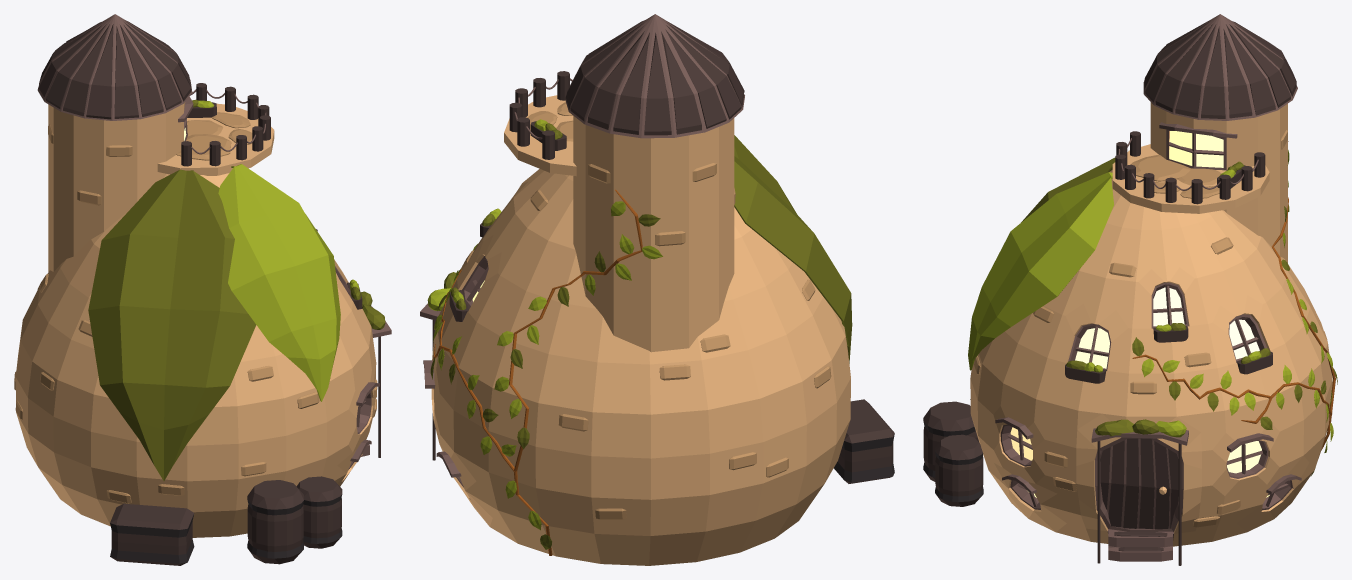
File: HouseBig.glb
3 views of the same model, side by side, from view 1: azimuth 30°, elevation 25°; view 2: azimuth 150°, elevation 25°; view 3: azimuth 270°, elevation 25° (orthographic). The views are drawn at different scales.
Parts seen in each view (by area): view 1: house.001, leaf.044, leaf.043, Cylinder.020, Cone.001, Cube, Cylinder.025, Cylinder.005, Cylinder.008, Cylinder.024, Cylinder.004; view 2: house.001, Cylinder.020, Cone.001, leaf.044, Cube, Cylinder.008, Cylinder; view 3: house.001, leaf.043, Cone.001, Cylinder.020, door, Cylinder.005, Cylinder.008, Cylinder.025, Cube.002, Plane, Cylinder.024, house.004 (+7 smaller).
Boxes of the visible parts, bbox=[...] form: house.001: bbox=[15, 173, 376, 537]; leaf.044: bbox=[88, 169, 256, 480]; leaf.043: bbox=[218, 164, 340, 401]; Cylinder.020: bbox=[48, 102, 185, 271]; Cone.001: bbox=[37, 14, 192, 120]; Cube: bbox=[110, 503, 194, 565]; Cylinder.025: bbox=[247, 480, 303, 564]; Cylinder.005: bbox=[296, 476, 342, 548]; Cylinder.008: bbox=[157, 103, 274, 175]; Cylinder.024: bbox=[176, 134, 231, 160]; Cylinder.004: bbox=[187, 120, 223, 136]; house.001: bbox=[431, 169, 850, 565]; Cylinder.020: bbox=[573, 116, 734, 352]; Cone.001: bbox=[565, 14, 744, 138]; leaf.044: bbox=[734, 135, 852, 363]; Cube: bbox=[834, 399, 894, 483]; Cylinder.008: bbox=[504, 95, 576, 176]; Cylinder: bbox=[509, 275, 580, 555]; house.001: bbox=[970, 170, 1332, 546]; leaf.043: bbox=[968, 172, 1113, 370]; Cone.001: bbox=[1143, 14, 1297, 120]; Cylinder.020: bbox=[1150, 102, 1287, 263]; door: bbox=[1100, 438, 1178, 529]; Cylinder.005: bbox=[935, 434, 983, 506]; Cylinder.008: bbox=[1112, 140, 1269, 213]; Cylinder.025: bbox=[923, 401, 979, 481]; Cube.002: bbox=[1108, 528, 1172, 561]; Plane: bbox=[1169, 131, 1223, 167]; Cylinder.024: bbox=[1131, 155, 1190, 181]; house.004: bbox=[1075, 328, 1109, 368].
Bounding box in the file's own units: 15.15 × 19.88 × 16.6.
